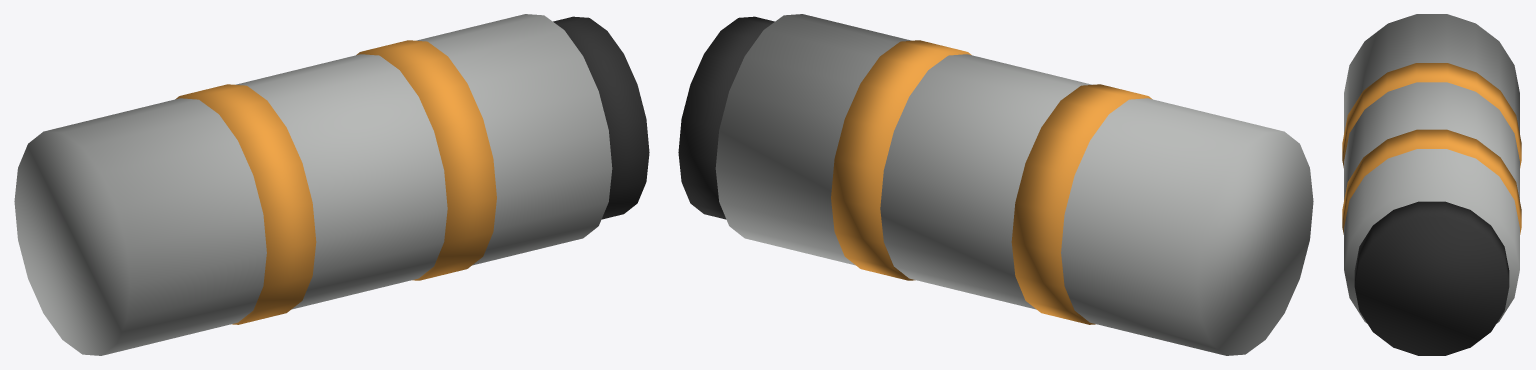
Rendered from Item_smoke_module.fbx.
3 renders of one model, left to right at view 1: azimuth 30°, elevation 25°; view 2: azimuth 150°, elevation 25°; view 3: azimuth 270°, elevation 25°, orthographic. The views are drawn at different scales.
Parts seen in each view (by area): view 1: model.016; view 2: model.016; view 3: model.016.
Boxes of the visible parts, <box> form: model.016: <box>14,14,649,355</box>; model.016: <box>678,14,1313,355</box>; model.016: <box>1342,14,1521,355</box>.
Size of the model in its own units: 0.131 by 0.0502 by 0.051.
